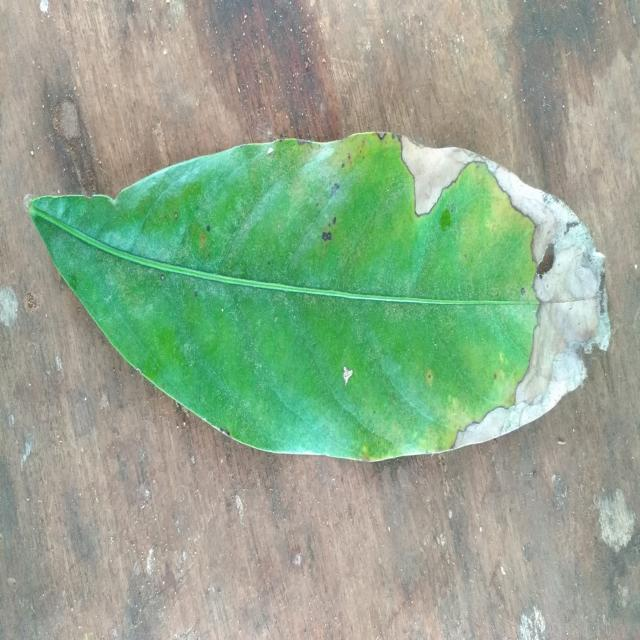defectedseethaashoka: (26, 133, 610, 460)
